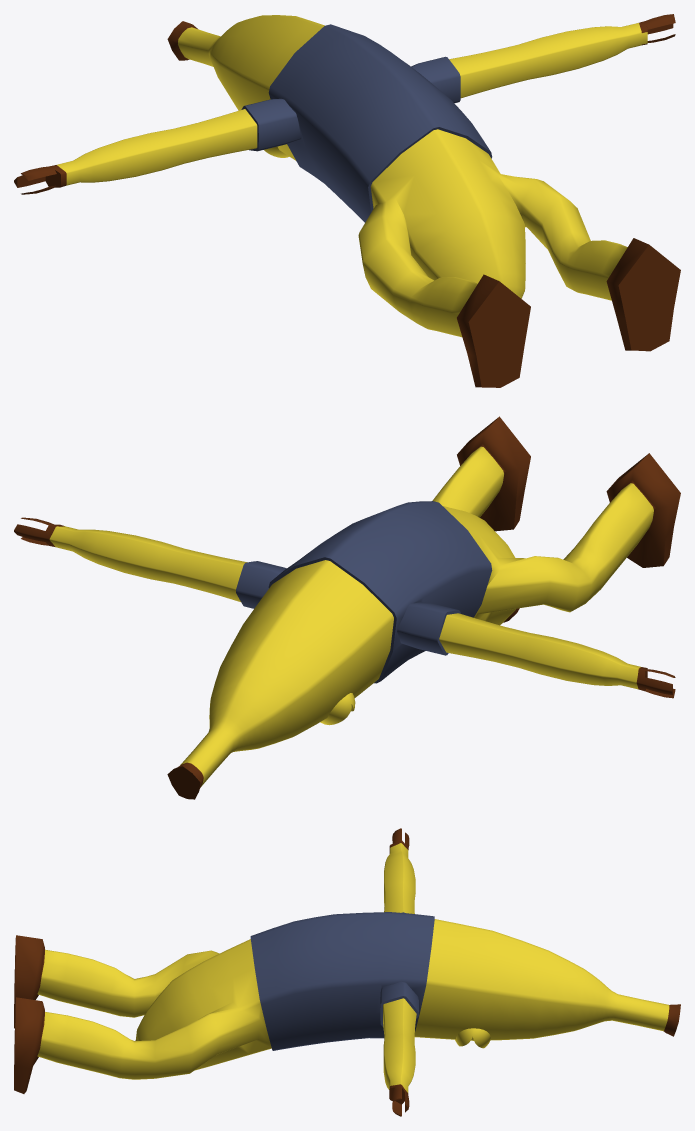
The model's file is Banana t-shirt(rig).fbx.
3 renders of one model, top to bottom at view 1: azimuth 30°, elevation 25°; view 2: azimuth 150°, elevation 25°; view 3: azimuth 270°, elevation 25°, orthographic. The views are drawn at different scales.
Parts seen in each view (by area): view 1: Banana.001; view 2: Banana.001; view 3: Banana.001, Eyelid.L.
Boxes of the visible parts, x1,y1,x2,y2 form: Banana.001: (14,14,680,387); Banana.001: (14,416,680,799); Banana.001: (14,828,680,1116); Eyelid.L: (455,1028,490,1048).
Bounding box in the file's own units: 875 × 240 × 904.
